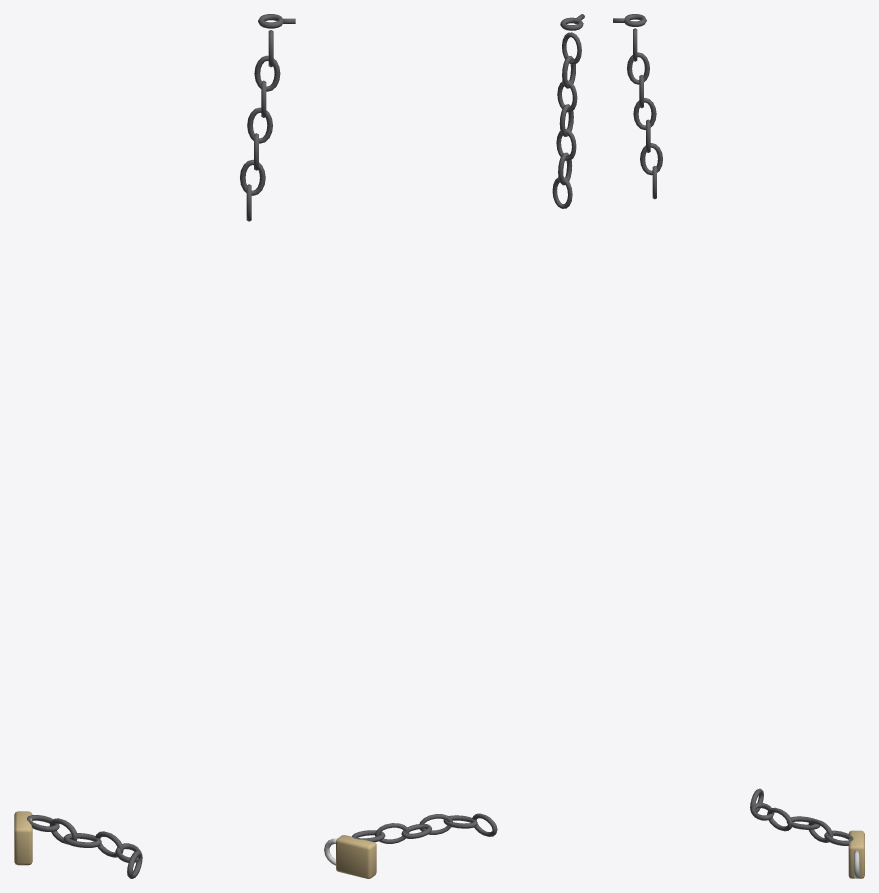
Rendered from ss_chain_cut.glb.
3 views of the same model, side by side, from view 1: azimuth 90°, elevation 25°; view 2: azimuth 150°, elevation 25°; view 3: azimuth 270°, elevation 25° (orthographic). The views are drawn at different scales.
Parts seen in each view (by area): view 1: ss_chain_cut; view 2: ss_chain_cut; view 3: ss_chain_cut.
Part boxes in pixels (x1,y1,x2,y2): ss_chain_cut: [14, 14, 295, 878]; ss_chain_cut: [324, 14, 584, 878]; ss_chain_cut: [613, 14, 864, 878].
Size of the model in its own units: 0.2111 by 1.08 by 0.3079.
